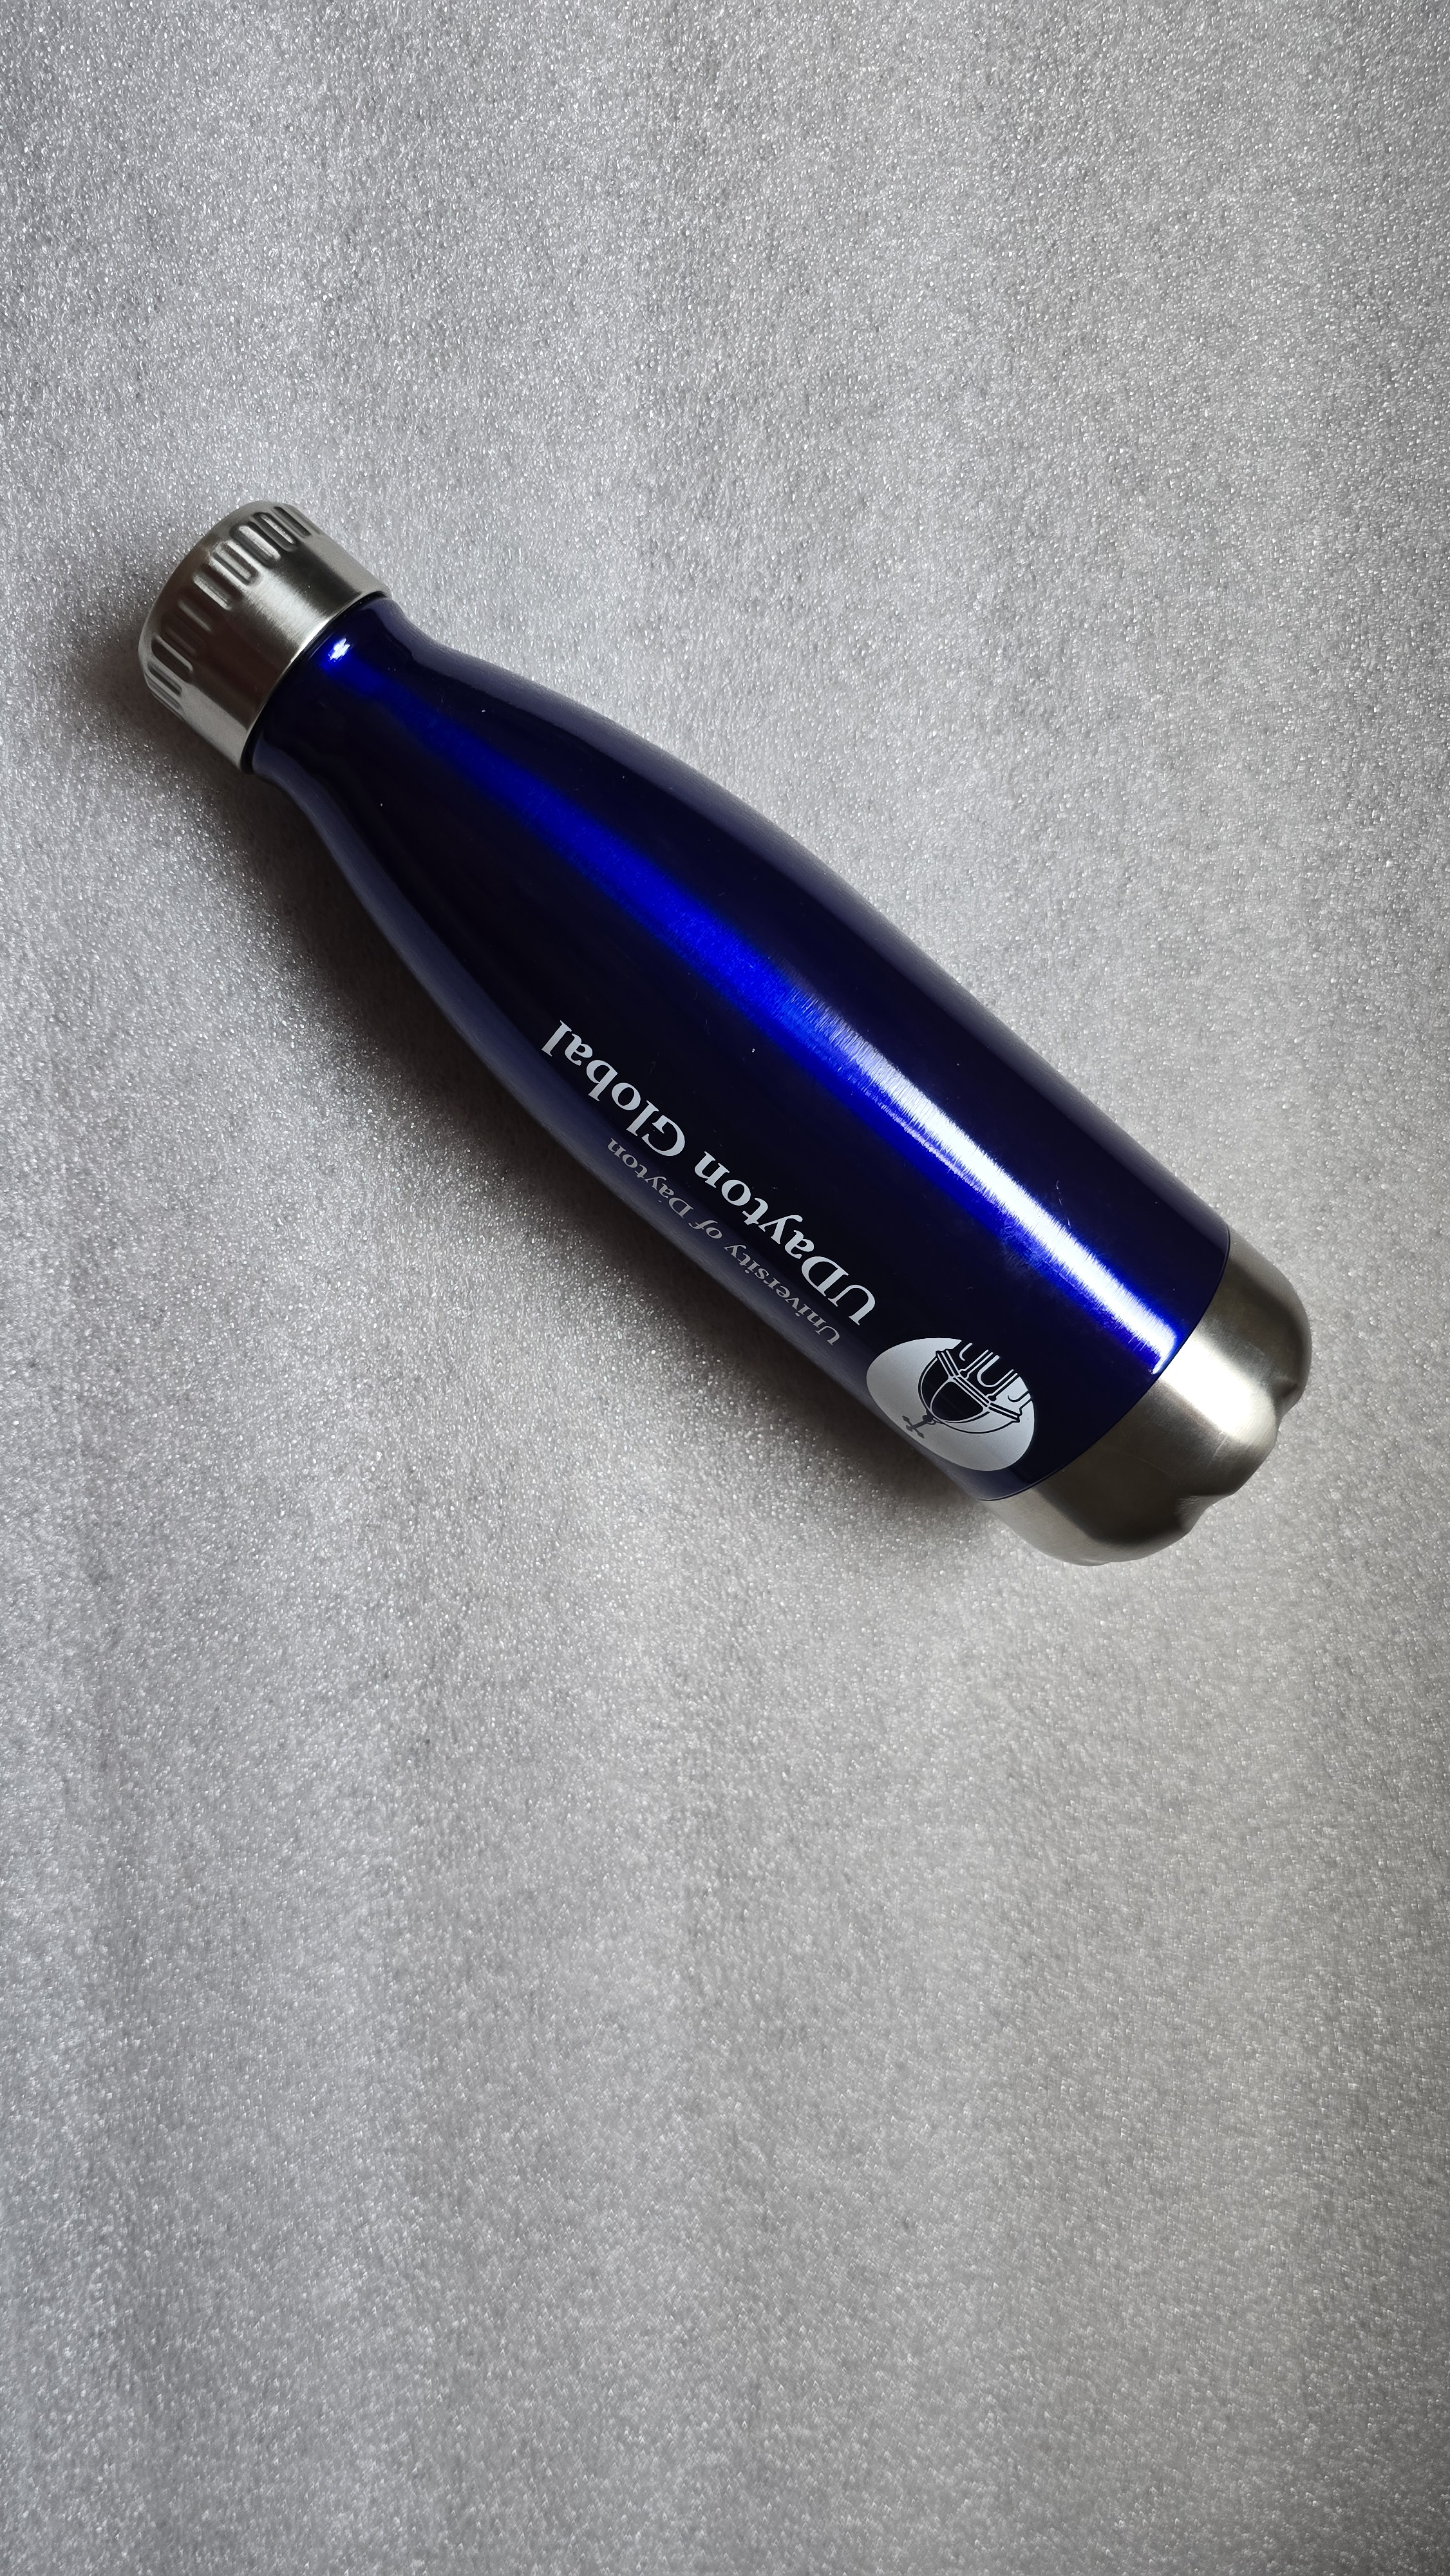bottle: (97, 451, 1346, 1585)
